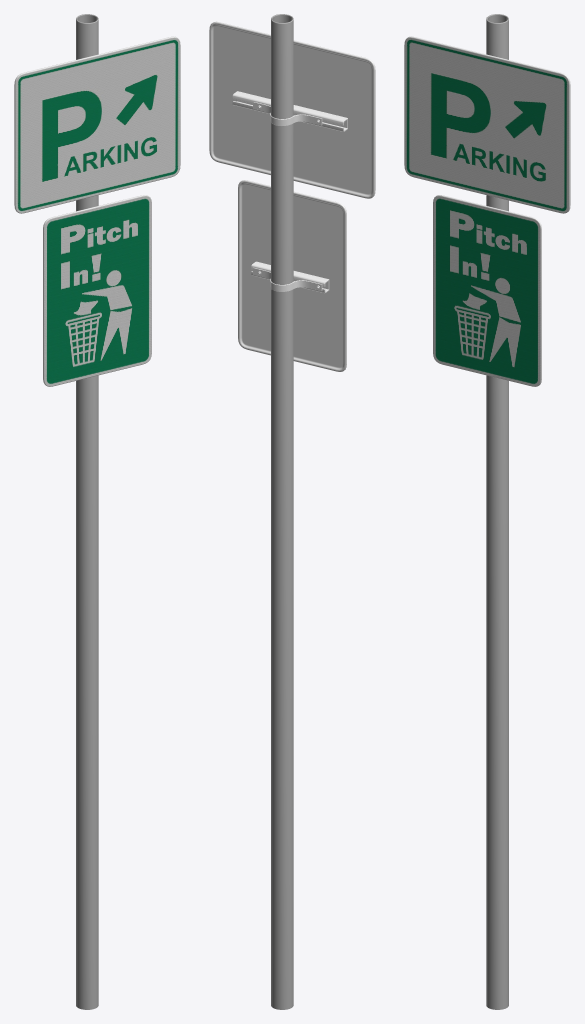
File: sign-eu-09.glb
3 renders of one model, left to right at view 1: azimuth 30°, elevation 25°; view 2: azimuth 150°, elevation 25°; view 3: azimuth 330°, elevation 25°, orthographic.
Parts seen in each view (by area): view 1: vm_ST_sign_09; view 2: vm_ST_sign_09; view 3: vm_ST_sign_09.
Part boxes in pixels (x1,y1,x2,y2): vm_ST_sign_09: [14, 14, 180, 1009]; vm_ST_sign_09: [209, 14, 375, 1009]; vm_ST_sign_09: [404, 14, 570, 1009].
Bounding box in the file's own units: 0.4786 × 2.73 × 0.0845.
4 materials, 2 textured.
